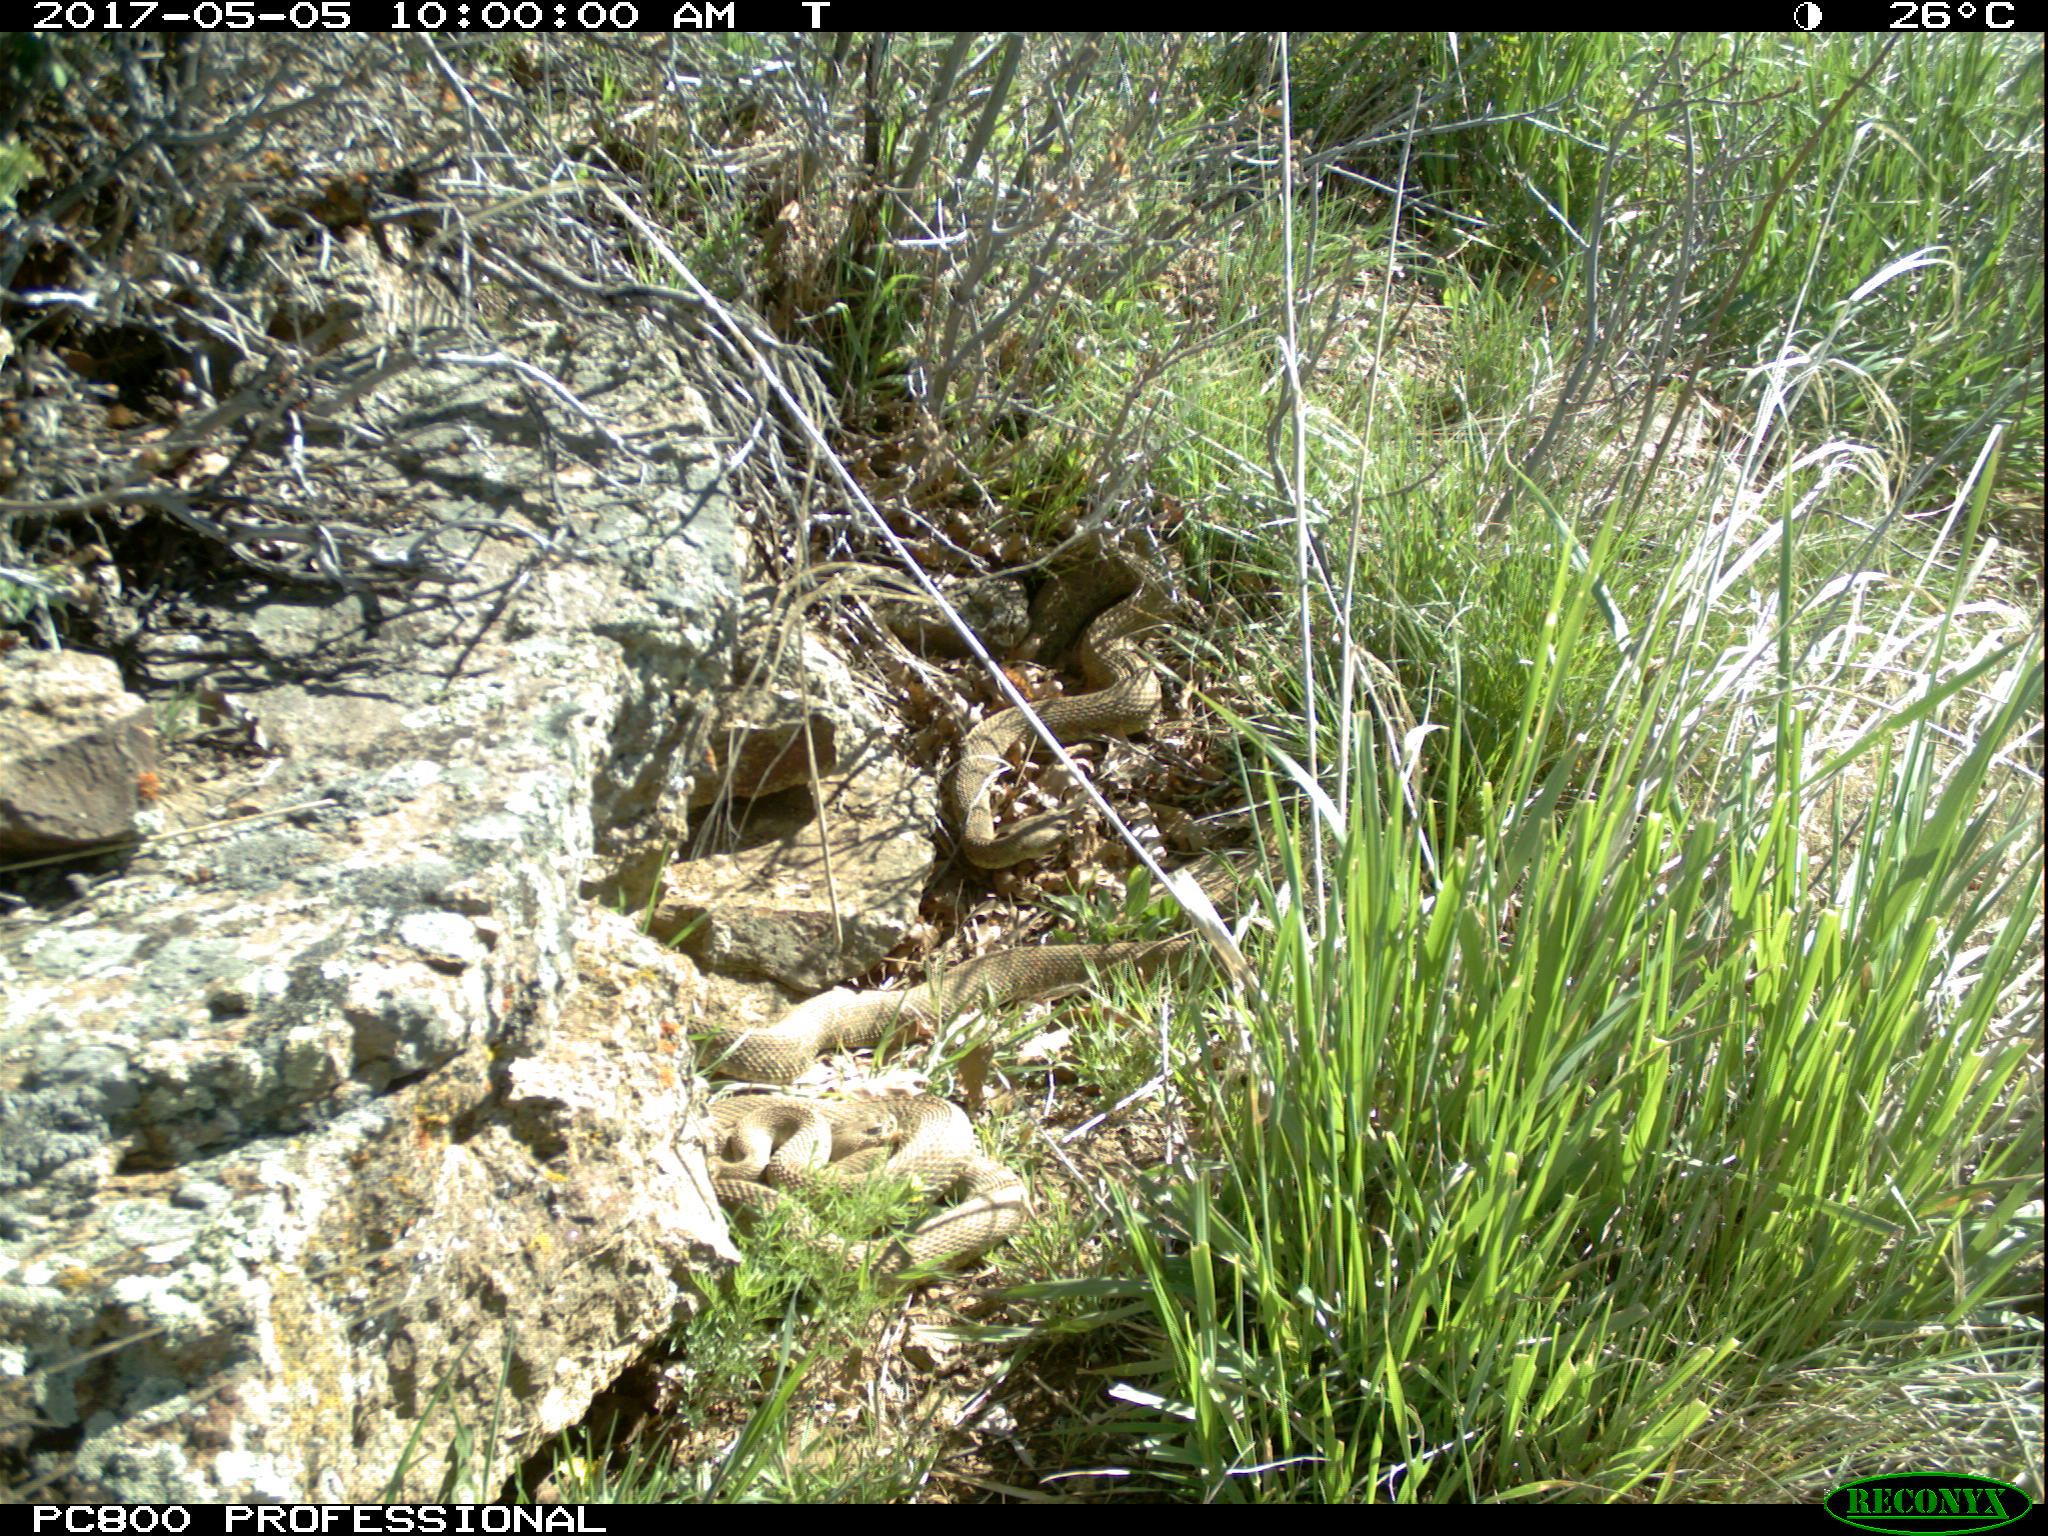snake: (921, 531, 1185, 874), (721, 937, 1234, 1081), (698, 1086, 1039, 1279)
